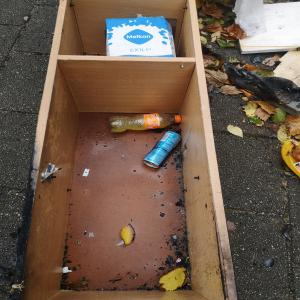Can: (141, 131, 185, 171)
Plastic-bottle: (106, 112, 185, 135)
